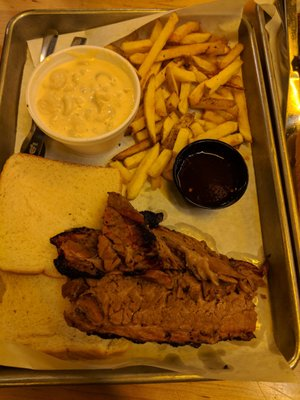soup: (0, 151, 127, 277)
sushi: (25, 44, 141, 157)
